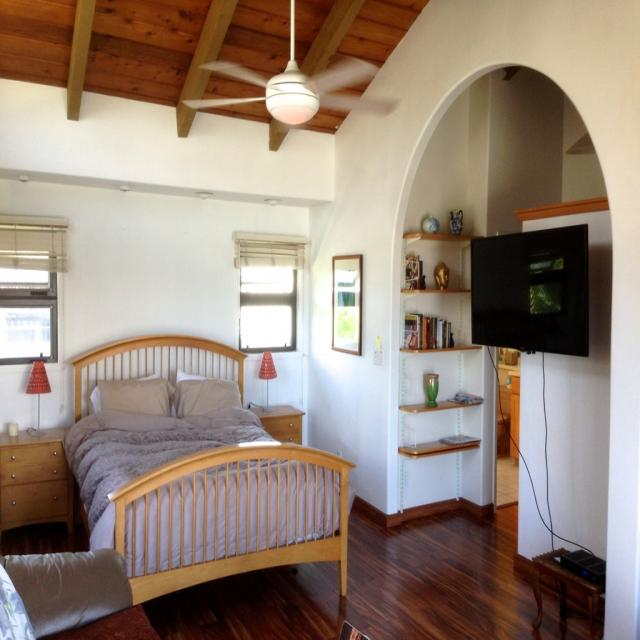Bulb: (180, 0, 398, 141)
